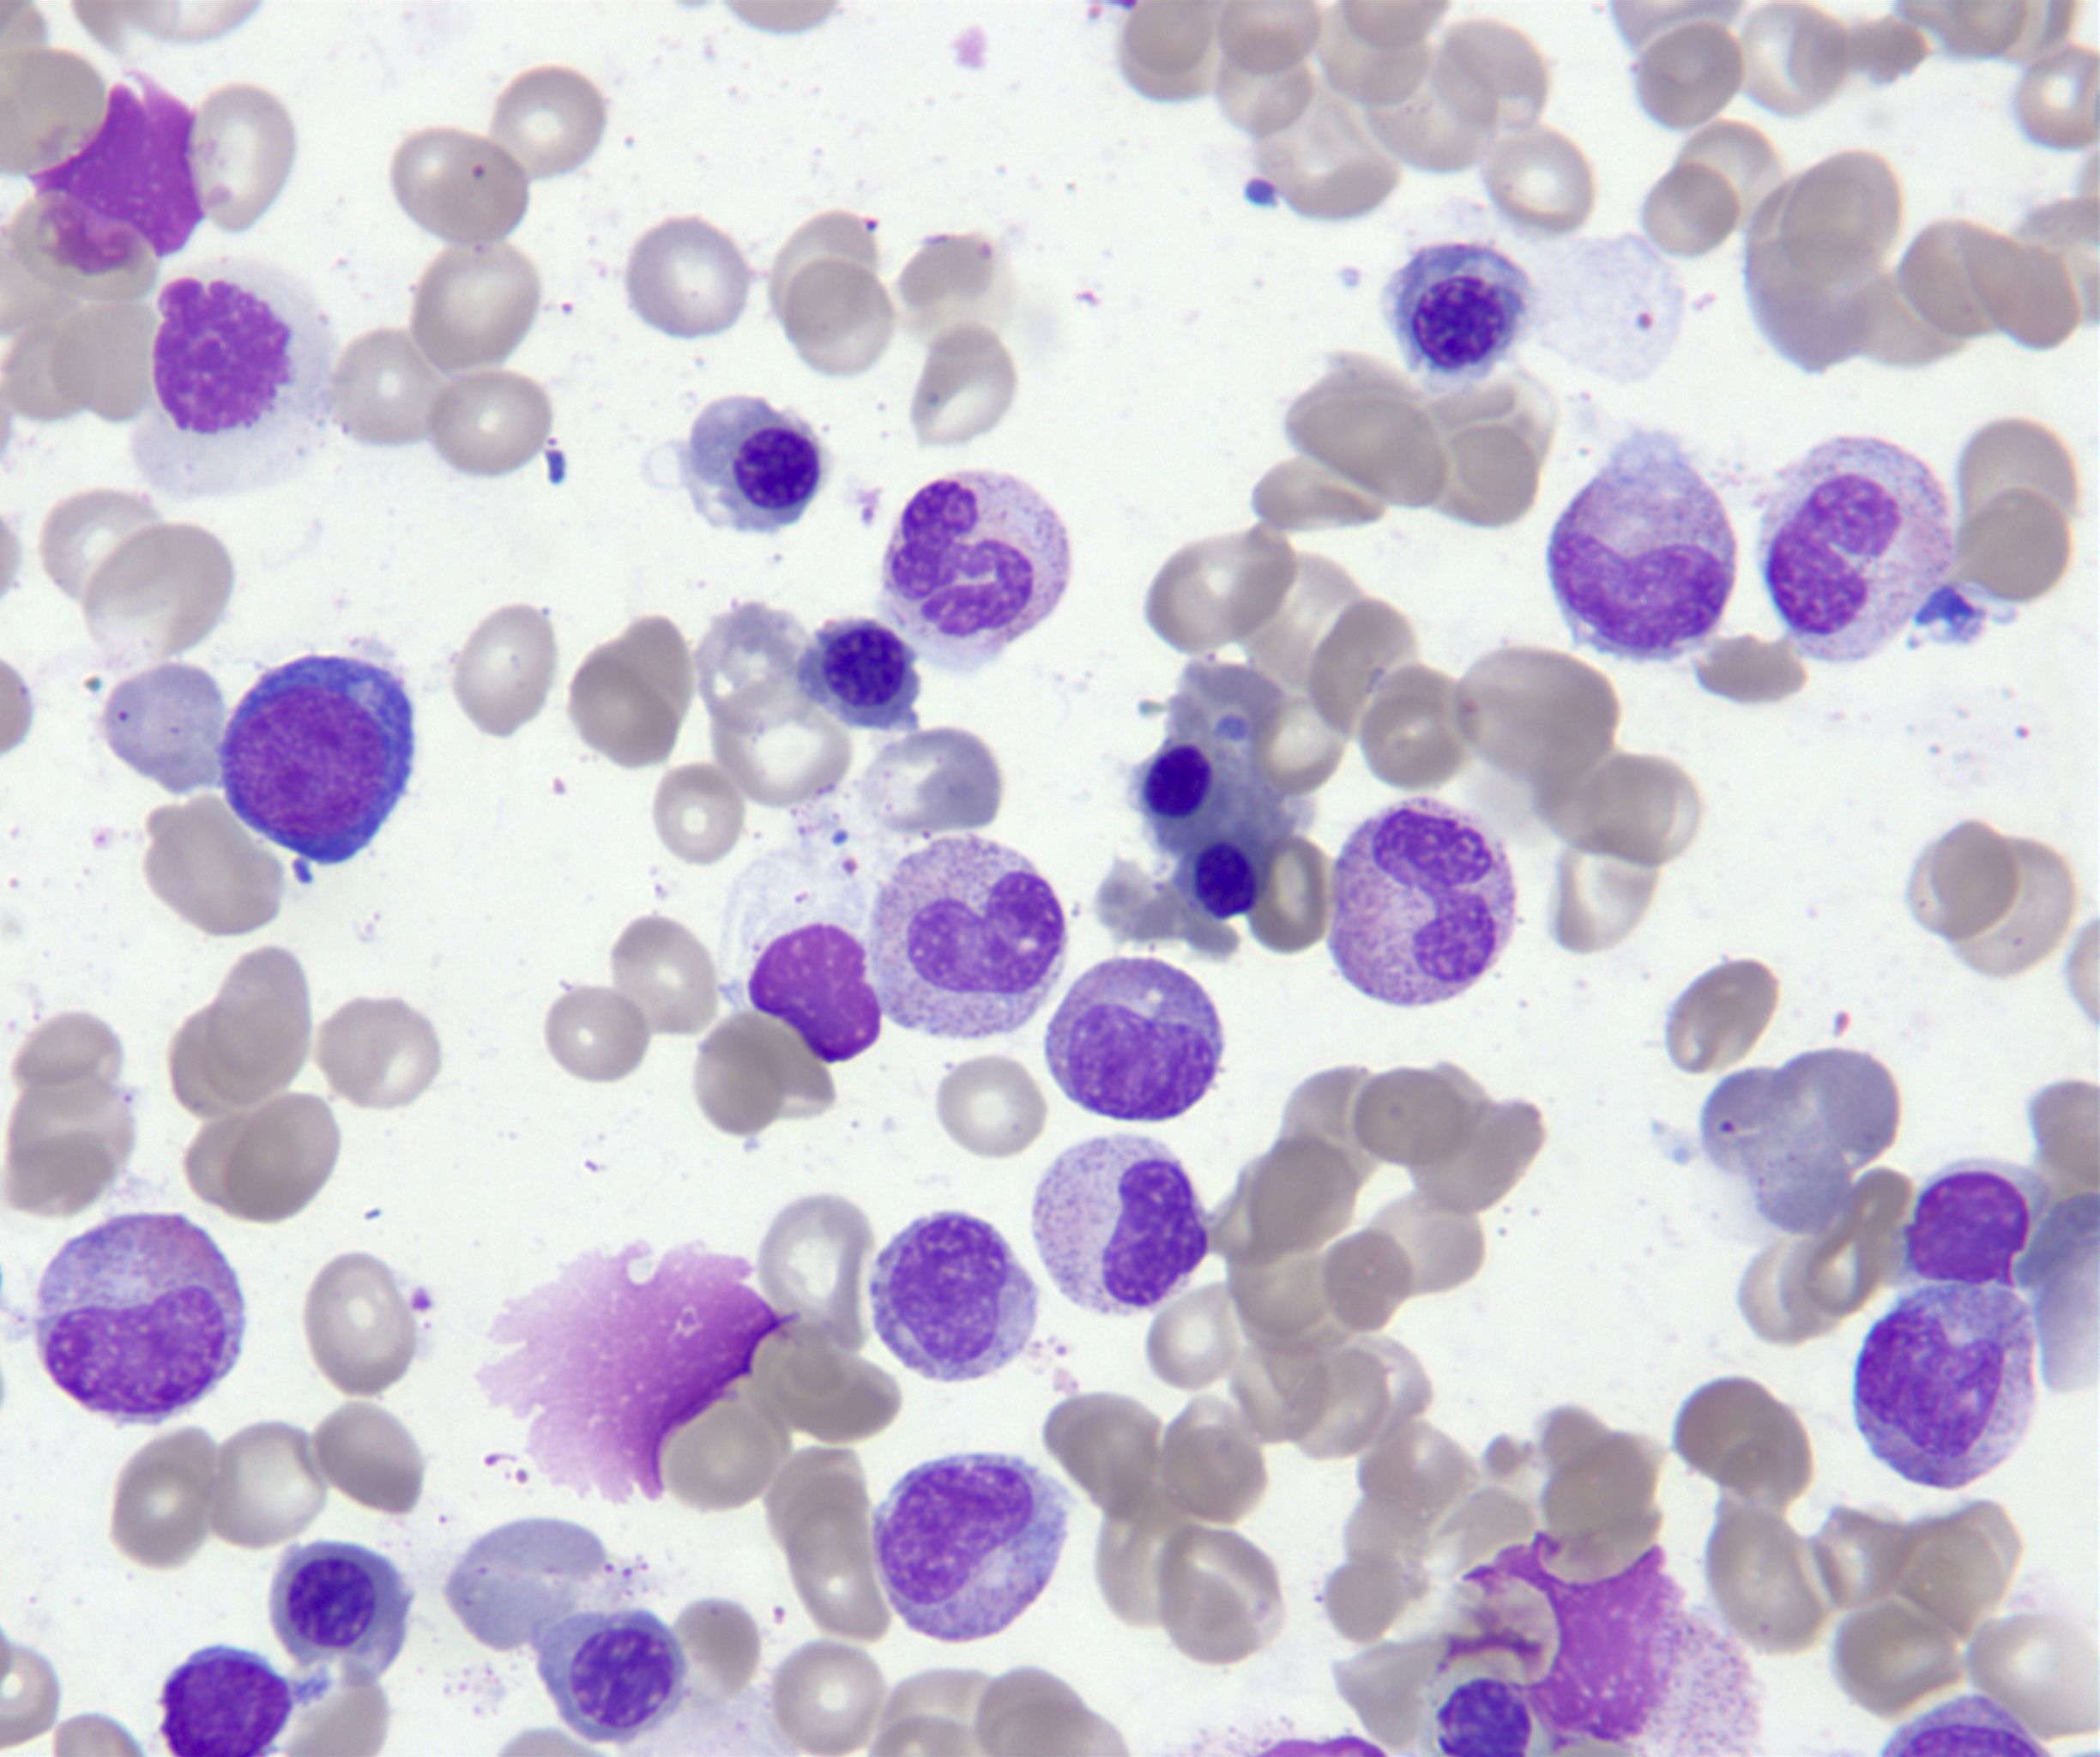22: (222, 654, 415, 862)
24: (1097, 801, 1312, 963), (1383, 244, 1531, 389), (534, 1605, 684, 1743), (680, 394, 825, 536), (270, 1544, 410, 1685), (804, 616, 923, 740), (1132, 736, 1244, 848)
4: (31, 1218, 248, 1425), (1552, 433, 1735, 661), (865, 841, 1069, 1040), (870, 1452, 1064, 1645), (1854, 1288, 2035, 1492), (1034, 1136, 1207, 1319), (870, 1213, 1036, 1380)
42: (1048, 961, 1223, 1118)
5: (1763, 433, 1953, 660)
6: (1329, 794, 1517, 1007), (884, 471, 1066, 668)
x: (126, 262, 335, 496), (33, 63, 228, 274), (717, 848, 884, 1066), (1901, 1157, 2055, 1296), (159, 1642, 300, 1757), (1437, 1678, 1533, 1757)
